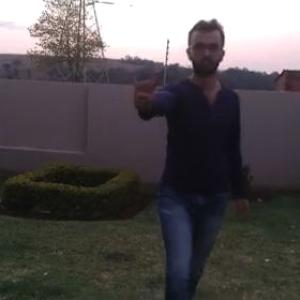takeoff-hand: (120, 69, 156, 106)
